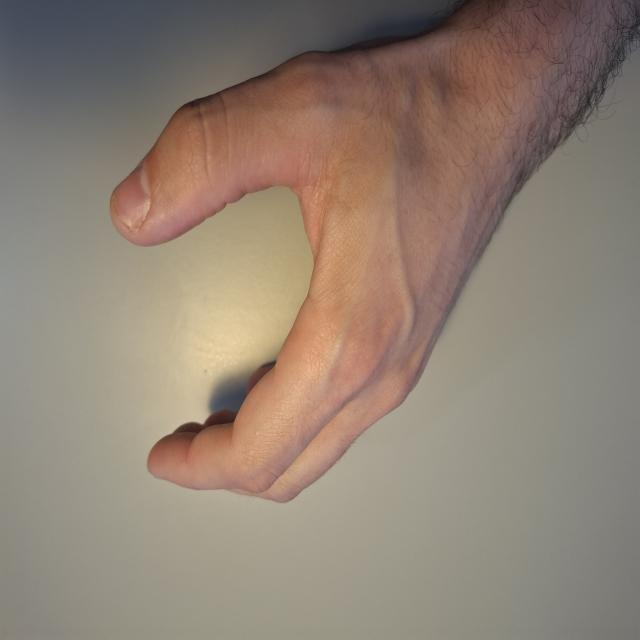glove_off: (106, 8, 570, 506)
